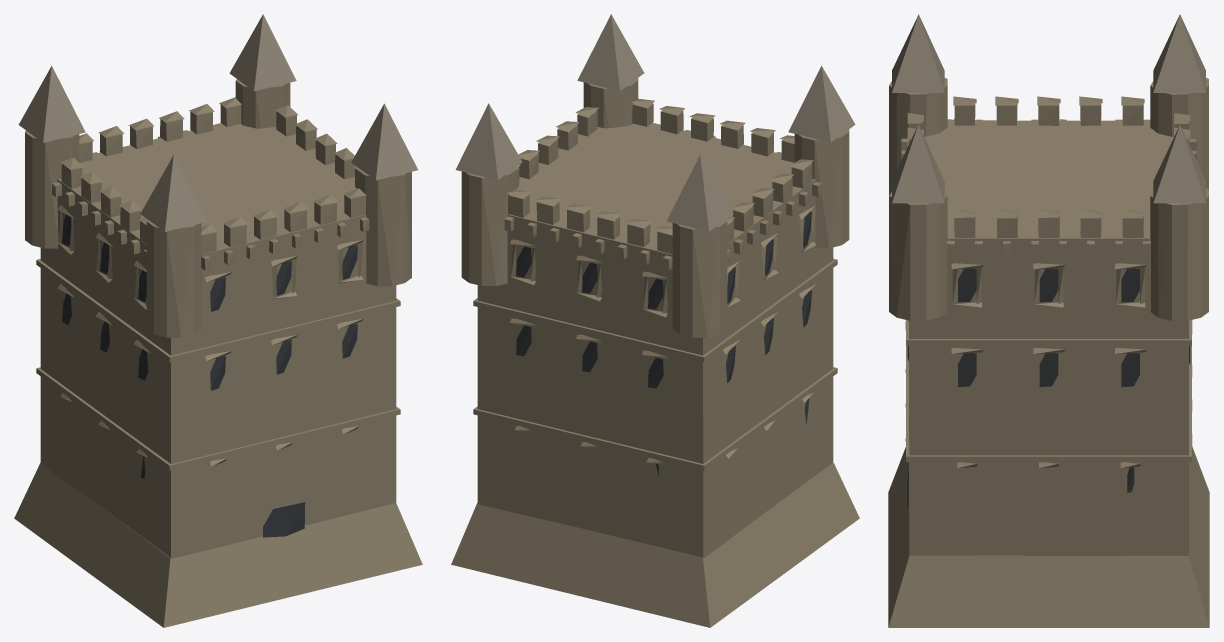
The model's file is castle-keep-lod1.glb.
3 views of the same model, side by side, from view 1: azimuth 30°, elevation 25°; view 2: azimuth 150°, elevation 25°; view 3: azimuth 270°, elevation 25° (orthographic). The views are drawn at different scales.
Bounding box in the file's own units: 13.76 × 23.2 × 13.76.
